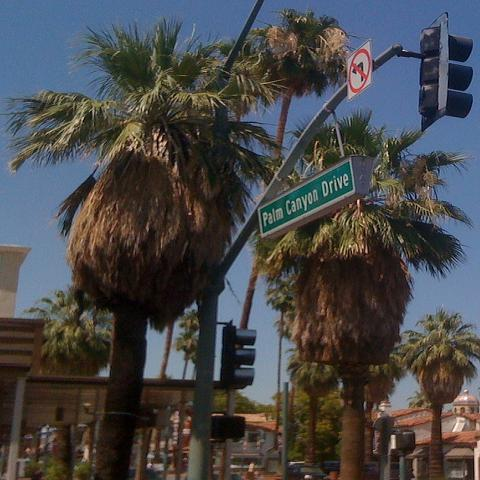car: (287, 464, 330, 480)
